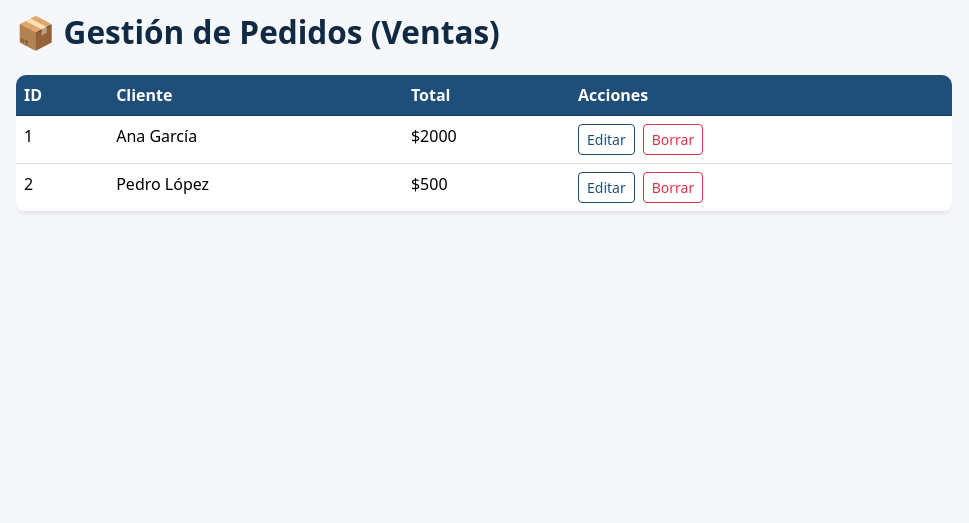
GestionPedidos › puede eliminar un ítem del pedido en el panel de edición
Expected: the text "Ana García" is shown, 108,115 -> 403,163
Click the button "Editar" in the row of "Ana García" at (606, 139), box 578,124 -> 635,155
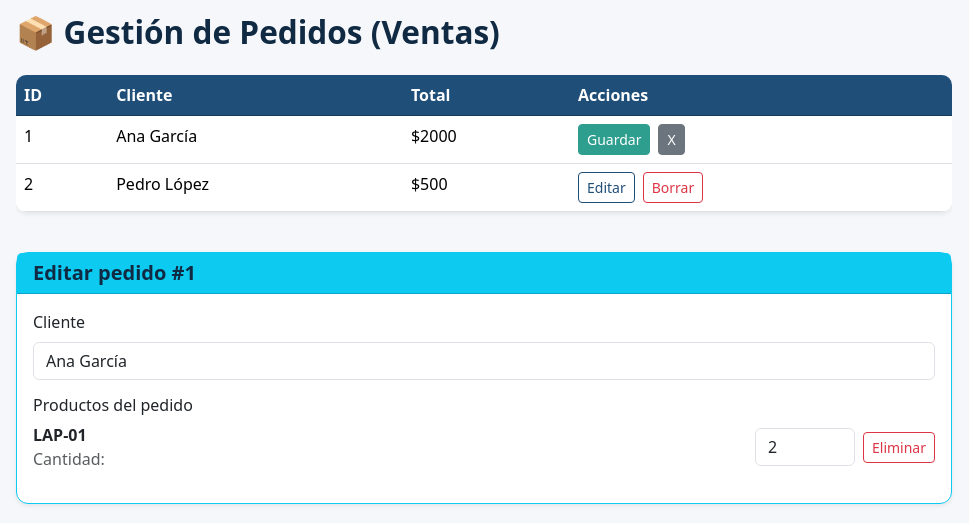
Expected: the text "LAP-01" is shown, 33,424 -> 87,446
Click the button "Eliminar" at (899, 447), box 863,432 -> 935,463
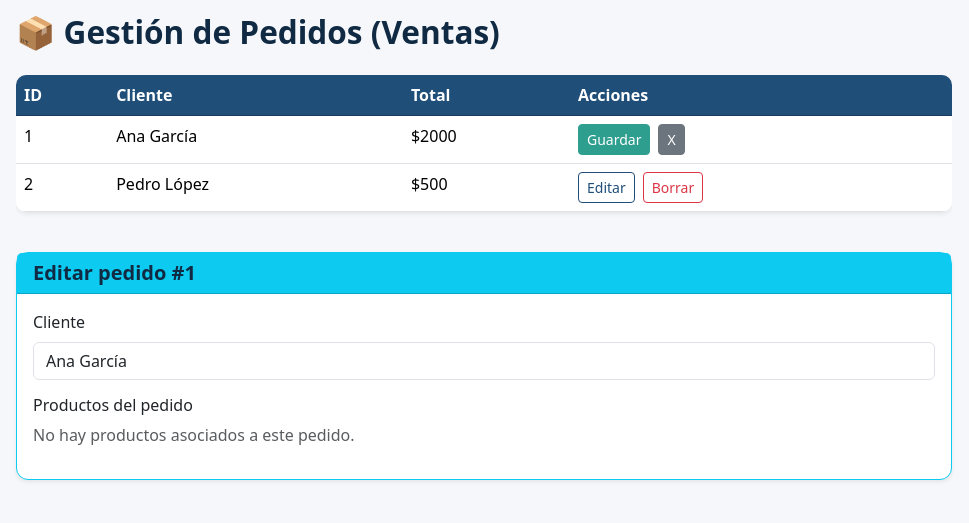
Expected: the text "LAP-01" is gone
Expected: the text "No hay productos asociados a este pedido." is shown, 33,424 -> 355,446
